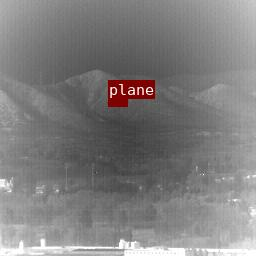plane: (108, 99, 127, 106)
